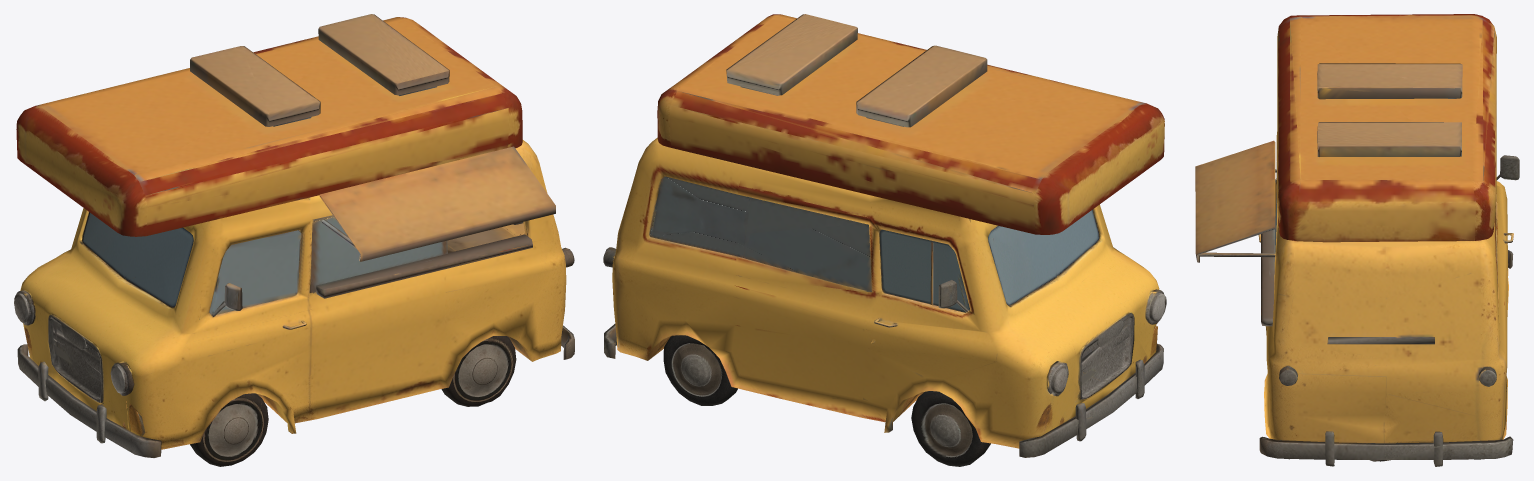
File: food_truck.glb
3 views of the same model, side by side, from view 1: azimuth 30°, elevation 25°; view 2: azimuth 150°, elevation 25°; view 3: azimuth 270°, elevation 25° (orthographic). The views are drawn at different scales.
Bounding box in the file's own units: 3.73 × 2.6 × 2.51.
1 material, 1 textured.
